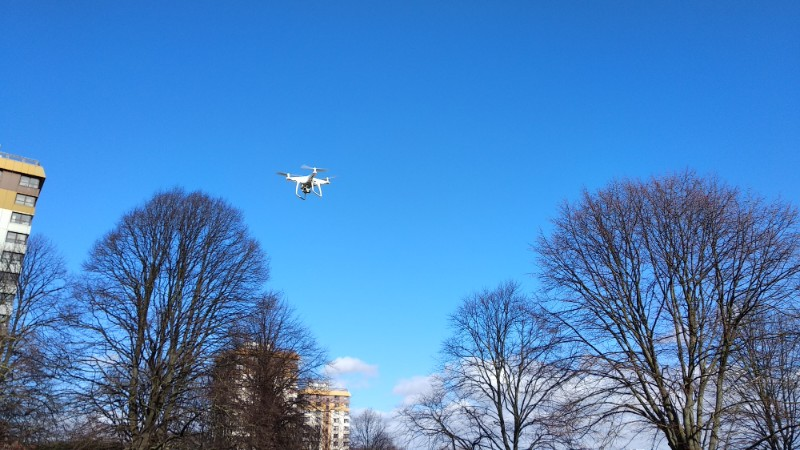drone: (276, 164, 339, 201)
